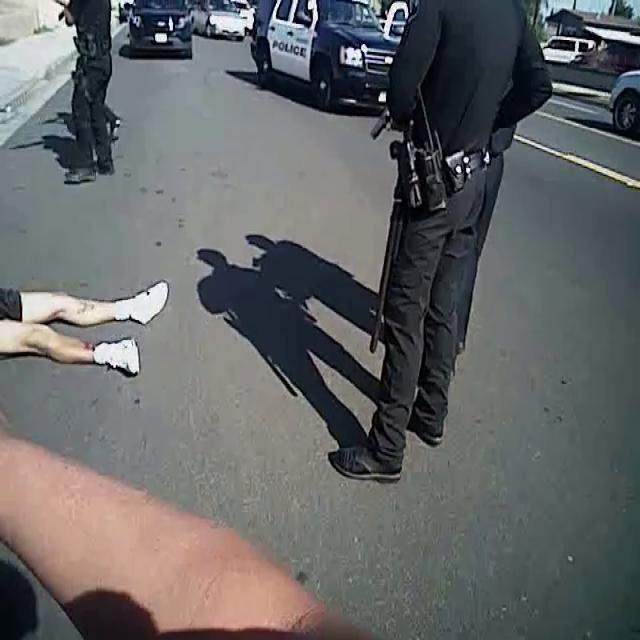gun: (390, 135, 430, 209), (358, 95, 402, 145)
